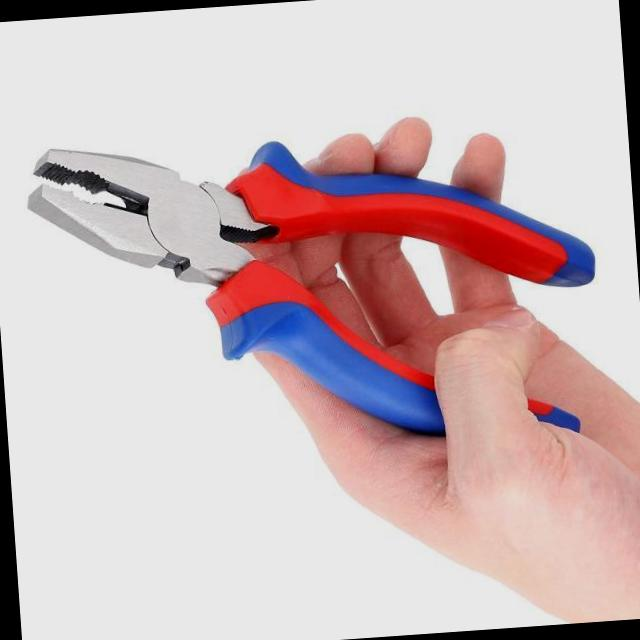pliers: (29, 143, 594, 434)
